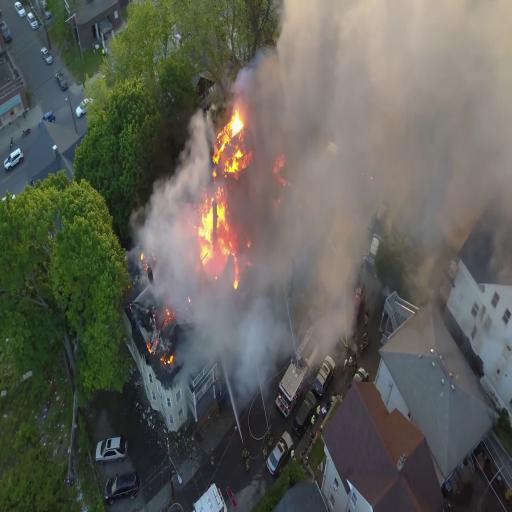fire: (198, 191, 238, 274), (215, 109, 250, 189)
